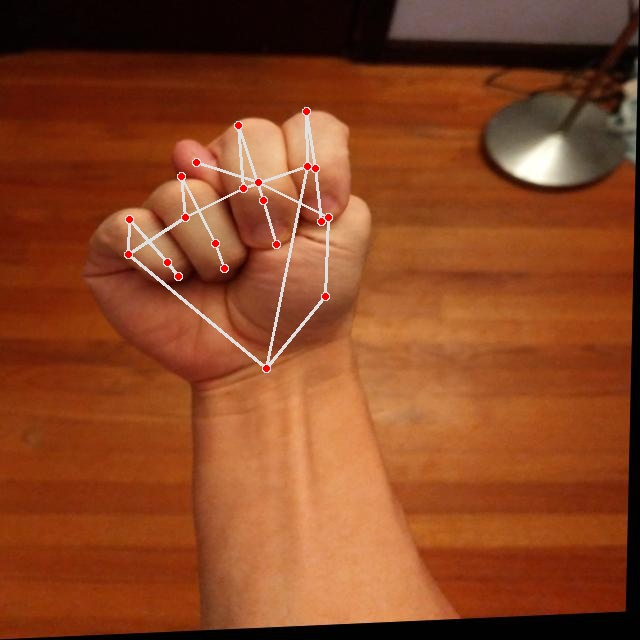N: (71, 107, 385, 395)
